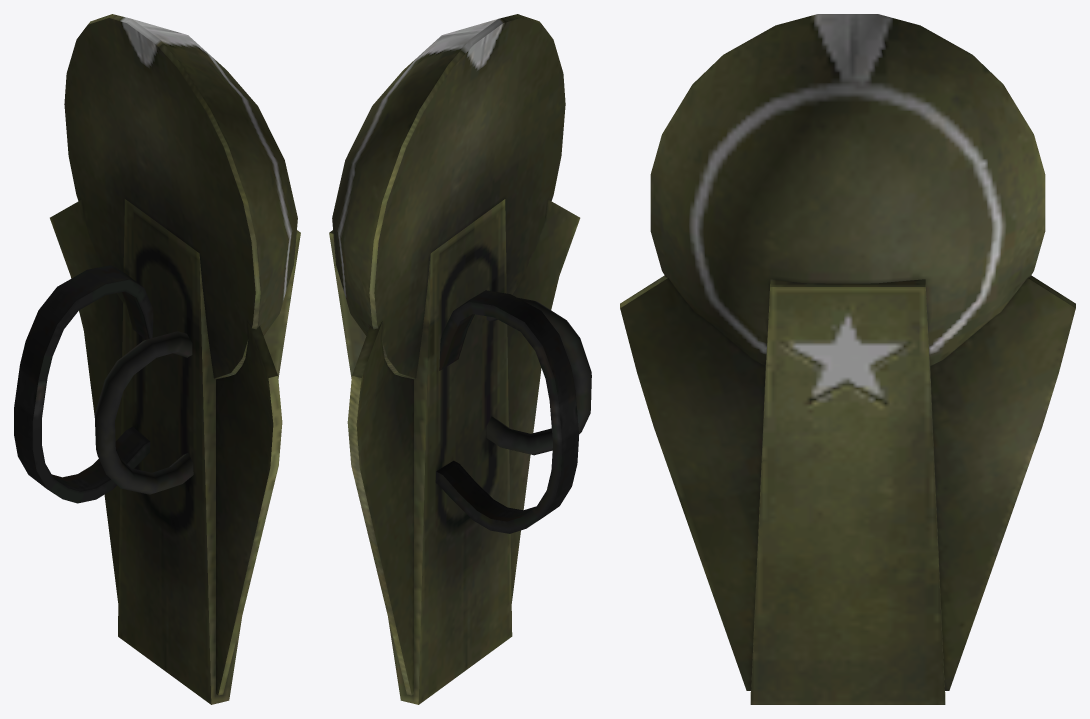
The model's file is whitestar_trooper_anti_shield.glb.
3 views of the same model, side by side, from view 1: azimuth 30°, elevation 25°; view 2: azimuth 150°, elevation 25°; view 3: azimuth 270°, elevation 25° (orthographic). The views are drawn at different scales.
Visible parts, largest first — view 1: common/whitestar_trooper_anti_shield_0; view 2: common/whitestar_trooper_anti_shield_0; view 3: common/whitestar_trooper_anti_shield_0.
Part boxes in pixels (box(x1,y1,x2,y2)): common/whitestar_trooper_anti_shield_0: box(14, 14, 300, 704); common/whitestar_trooper_anti_shield_0: box(329, 14, 591, 704); common/whitestar_trooper_anti_shield_0: box(620, 14, 1075, 704).
Size of the model in its own units: 0.7223 by 2 by 1.23.
1 material, 1 textured.
